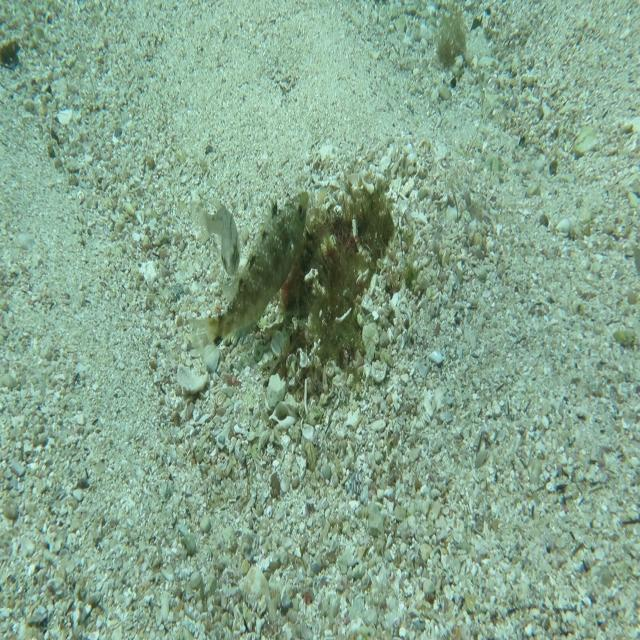FAN: (188, 190, 310, 361)
core_nest: (330, 205, 389, 262)
female: (190, 196, 242, 278)
nest: (267, 165, 412, 406)
